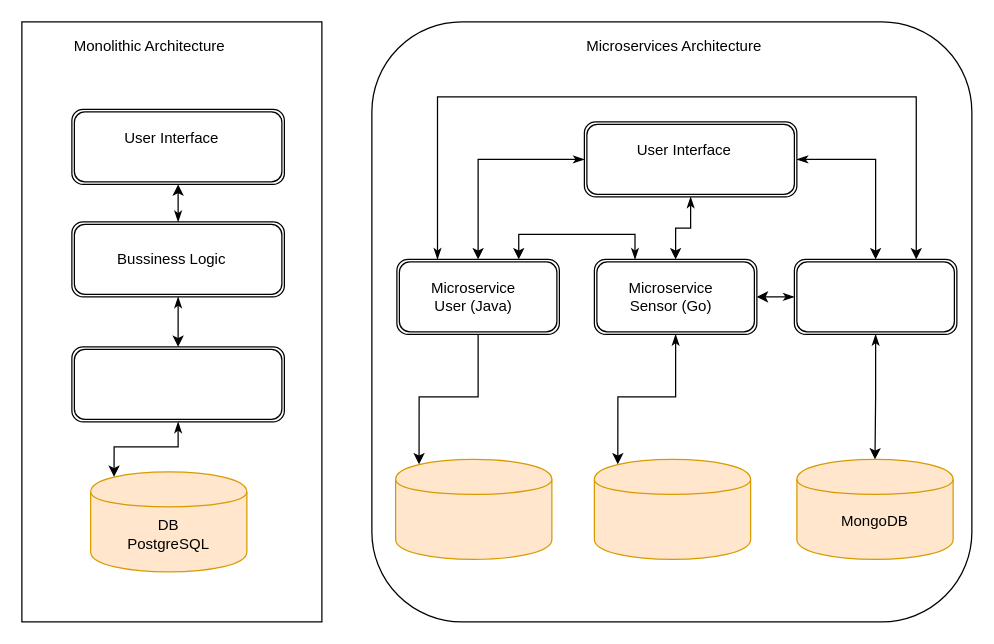
This 994x644 diagram has some shape labels left out. The box of each missing label's shape, as (x1, y1, x2, y2) in pixels:
Data Layer: (71, 346, 284, 422)
Datastore: (593, 458, 751, 559)
DB Mysql: (394, 458, 552, 559)
Microservice Order (NodeJS): (793, 258, 957, 334)
